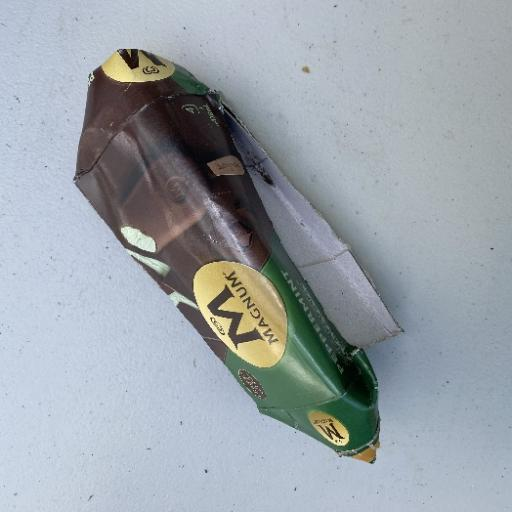Cardboard: (72, 46, 404, 462)
